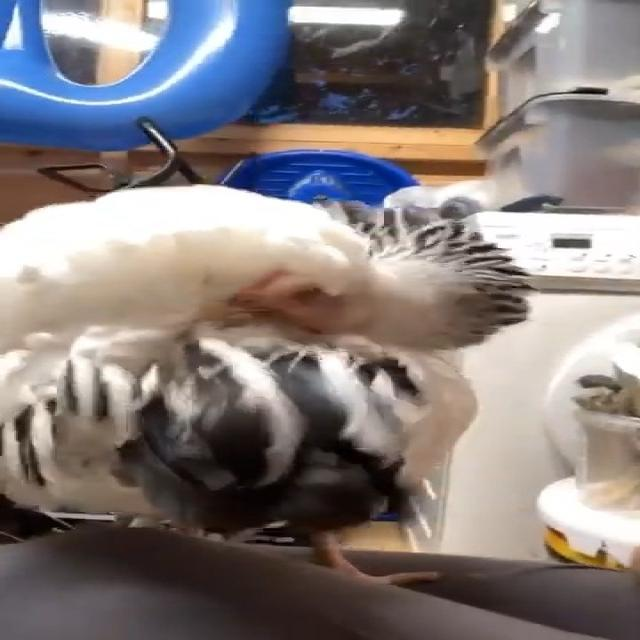self preening: (0, 186, 519, 568)
